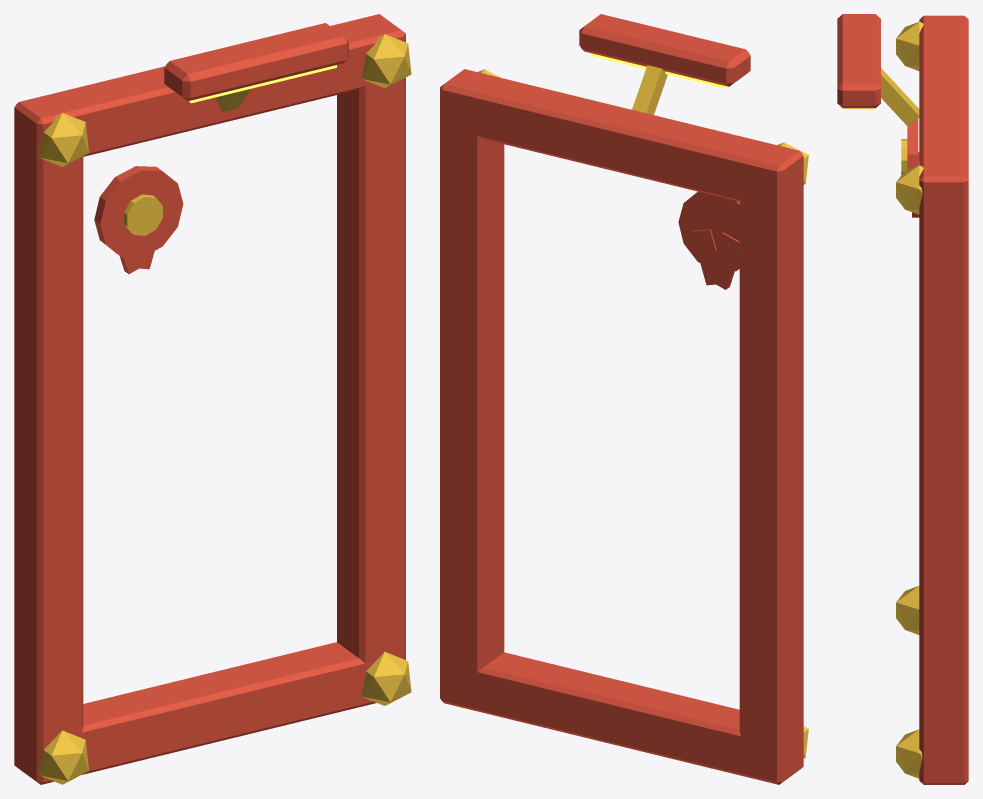
File: poster_m1_2.glb
The picture shows the model from 3 angles, left to right: view 1: azimuth 30°, elevation 25°; view 2: azimuth 150°, elevation 25°; view 3: azimuth 270°, elevation 25°; orthographic projection. The views are drawn at different scales.
Visible parts, largest first — view 1: poster_m1_2_mesh; view 2: poster_m1_2_mesh; view 3: poster_m1_2_mesh.
Part boxes in pixels (x1,y1,x2,y2): poster_m1_2_mesh: [14, 14, 411, 784]; poster_m1_2_mesh: [440, 14, 808, 784]; poster_m1_2_mesh: [837, 14, 968, 784].
Bounding box in the file's own units: 0.71 × 1.32 × 0.24.
